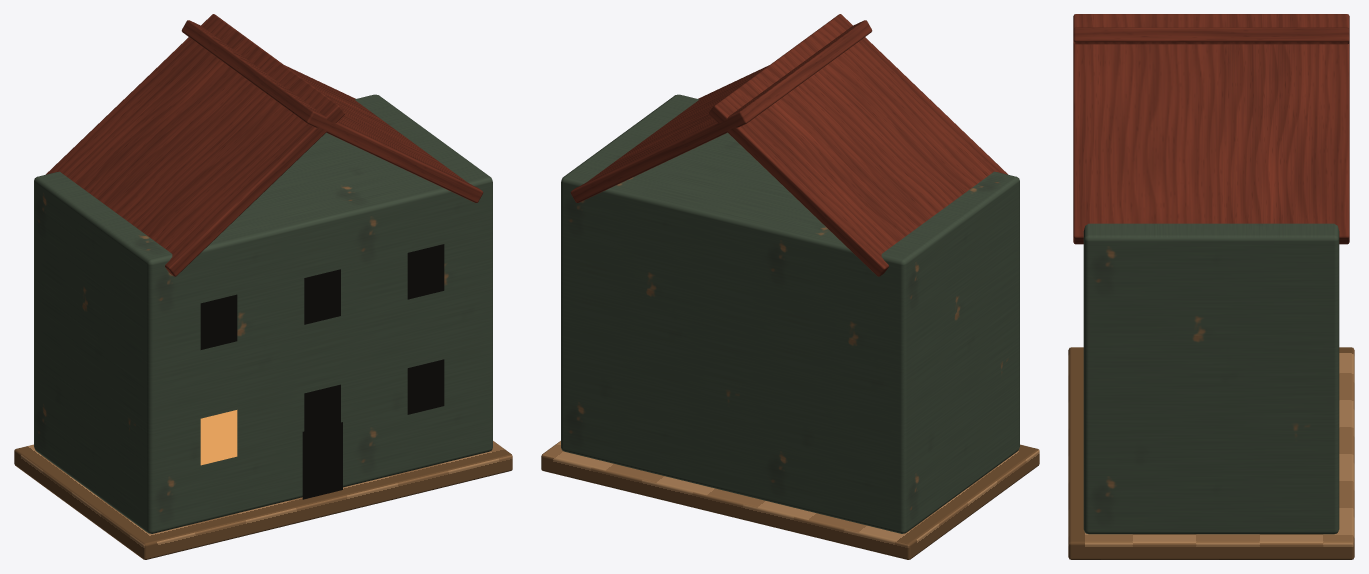
Rendered from dollhouse.glb.
3 renders of one model, left to right at view 1: azimuth 30°, elevation 25°; view 2: azimuth 150°, elevation 25°; view 3: azimuth 270°, elevation 25°, orthographic. The views are drawn at different scales.
Visible parts, largest first — view 1: dollhouse, dyn_wood_variant; view 2: dollhouse, dyn_wood_variant; view 3: dollhouse, dyn_wood_variant.
Part boxes in pixels (bbox=[...]): dollhouse: bbox=[34, 14, 492, 533]; dyn_wood_variant: bbox=[14, 441, 512, 559]; dollhouse: bbox=[561, 14, 1019, 533]; dyn_wood_variant: bbox=[541, 441, 1039, 559]; dollhouse: bbox=[1073, 14, 1349, 534]; dyn_wood_variant: bbox=[1068, 347, 1354, 559].
Size of the model in its own units: 0.9102 by 0.9547 by 0.5601.
Materials: 5 (3 with a texture image).
